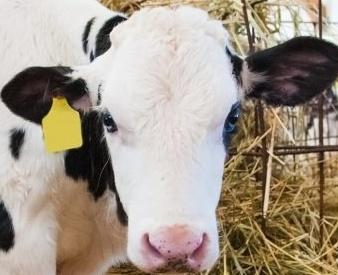muzzles: (122, 223, 220, 274)
